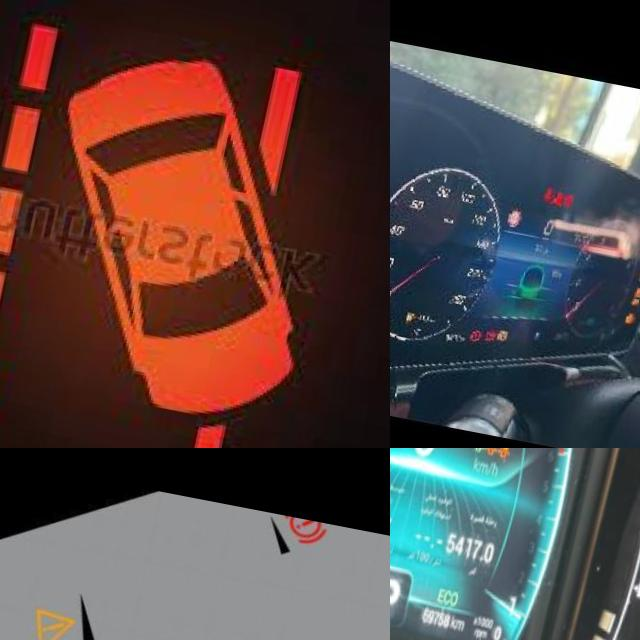Seat Belt: (555, 171, 566, 186)
